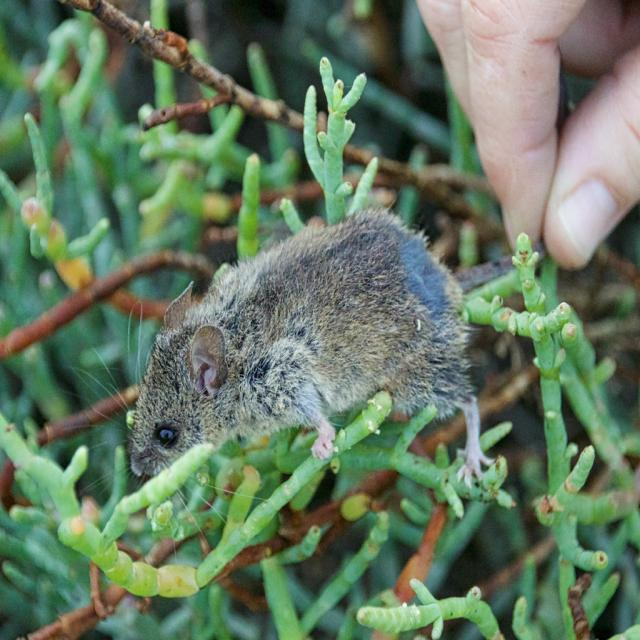rat: (127, 212, 497, 488)
